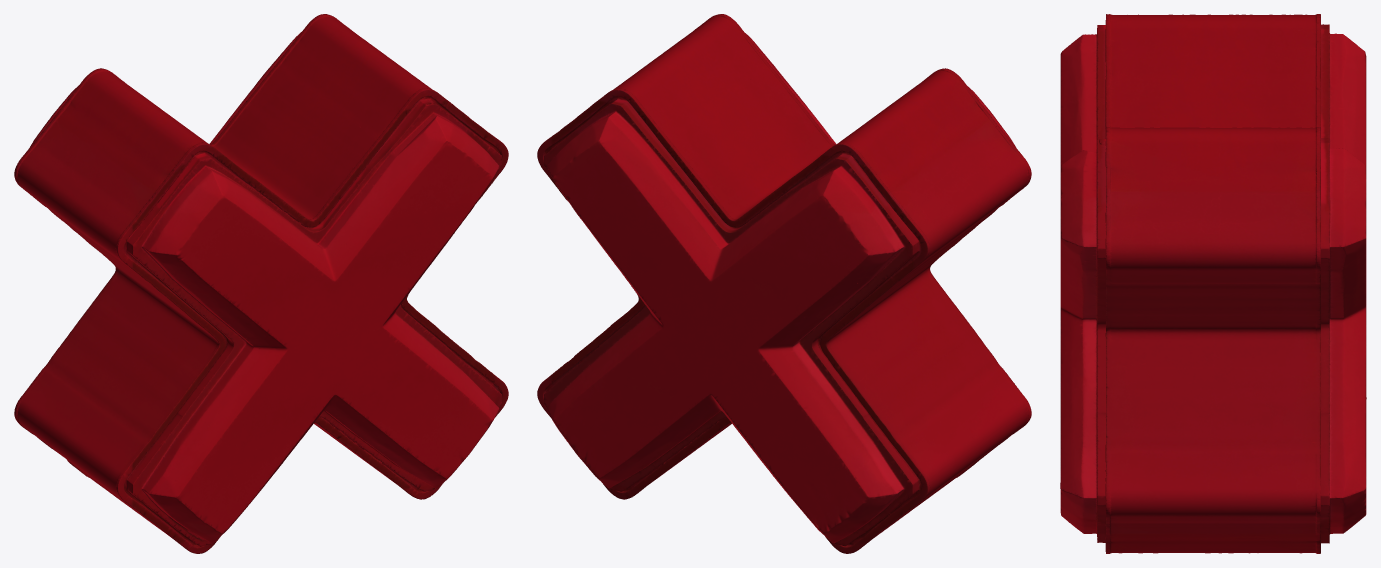
The picture shows the model from 3 angles, left to right: view 1: azimuth 30°, elevation 25°; view 2: azimuth 150°, elevation 25°; view 3: azimuth 270°, elevation 25°; orthographic projection. The views are drawn at different scales.
Bounding box in the file's own units: 1.9 × 1.9 × 1.24.
1 material, 1 textured.
